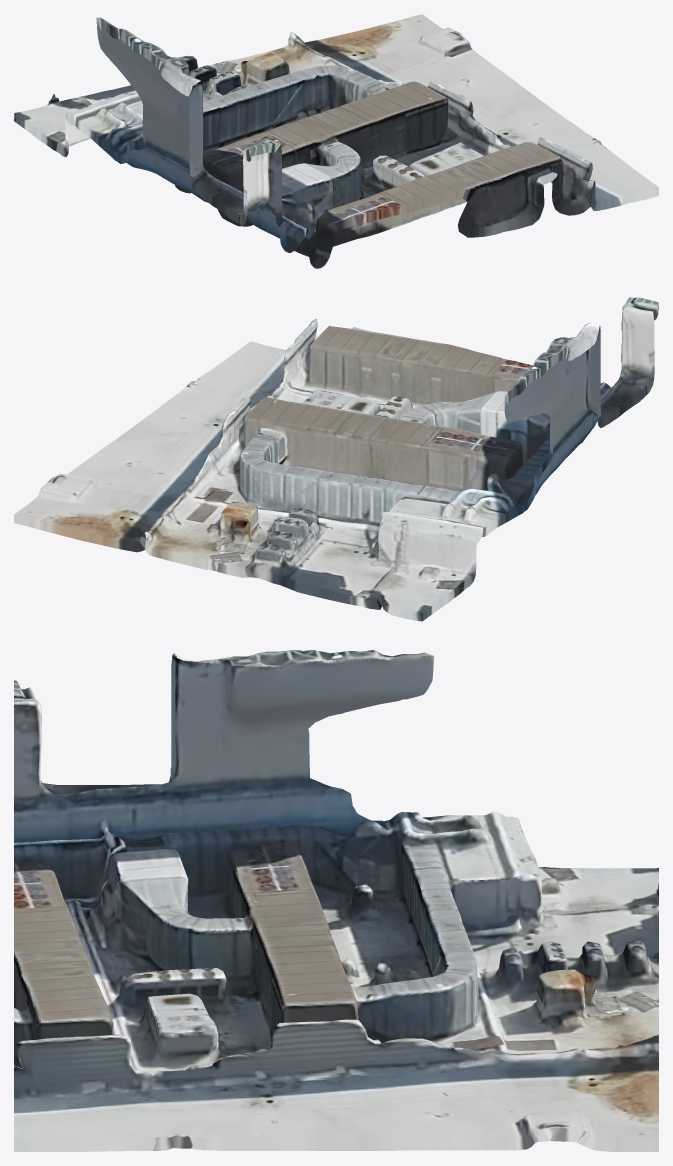
Rendered from z20-167750-405251-h0-yup-uvflip-v3-world.glb.
The picture shows the model from 3 angles, top to bottom: view 1: azimuth 30°, elevation 25°; view 2: azimuth 150°, elevation 25°; view 3: azimuth 270°, elevation 25°; orthographic projection. The views are drawn at different scales.
Bounding box in the file's own units: 30.2 × 12.08 × 30.32.
1 material, 1 textured.
